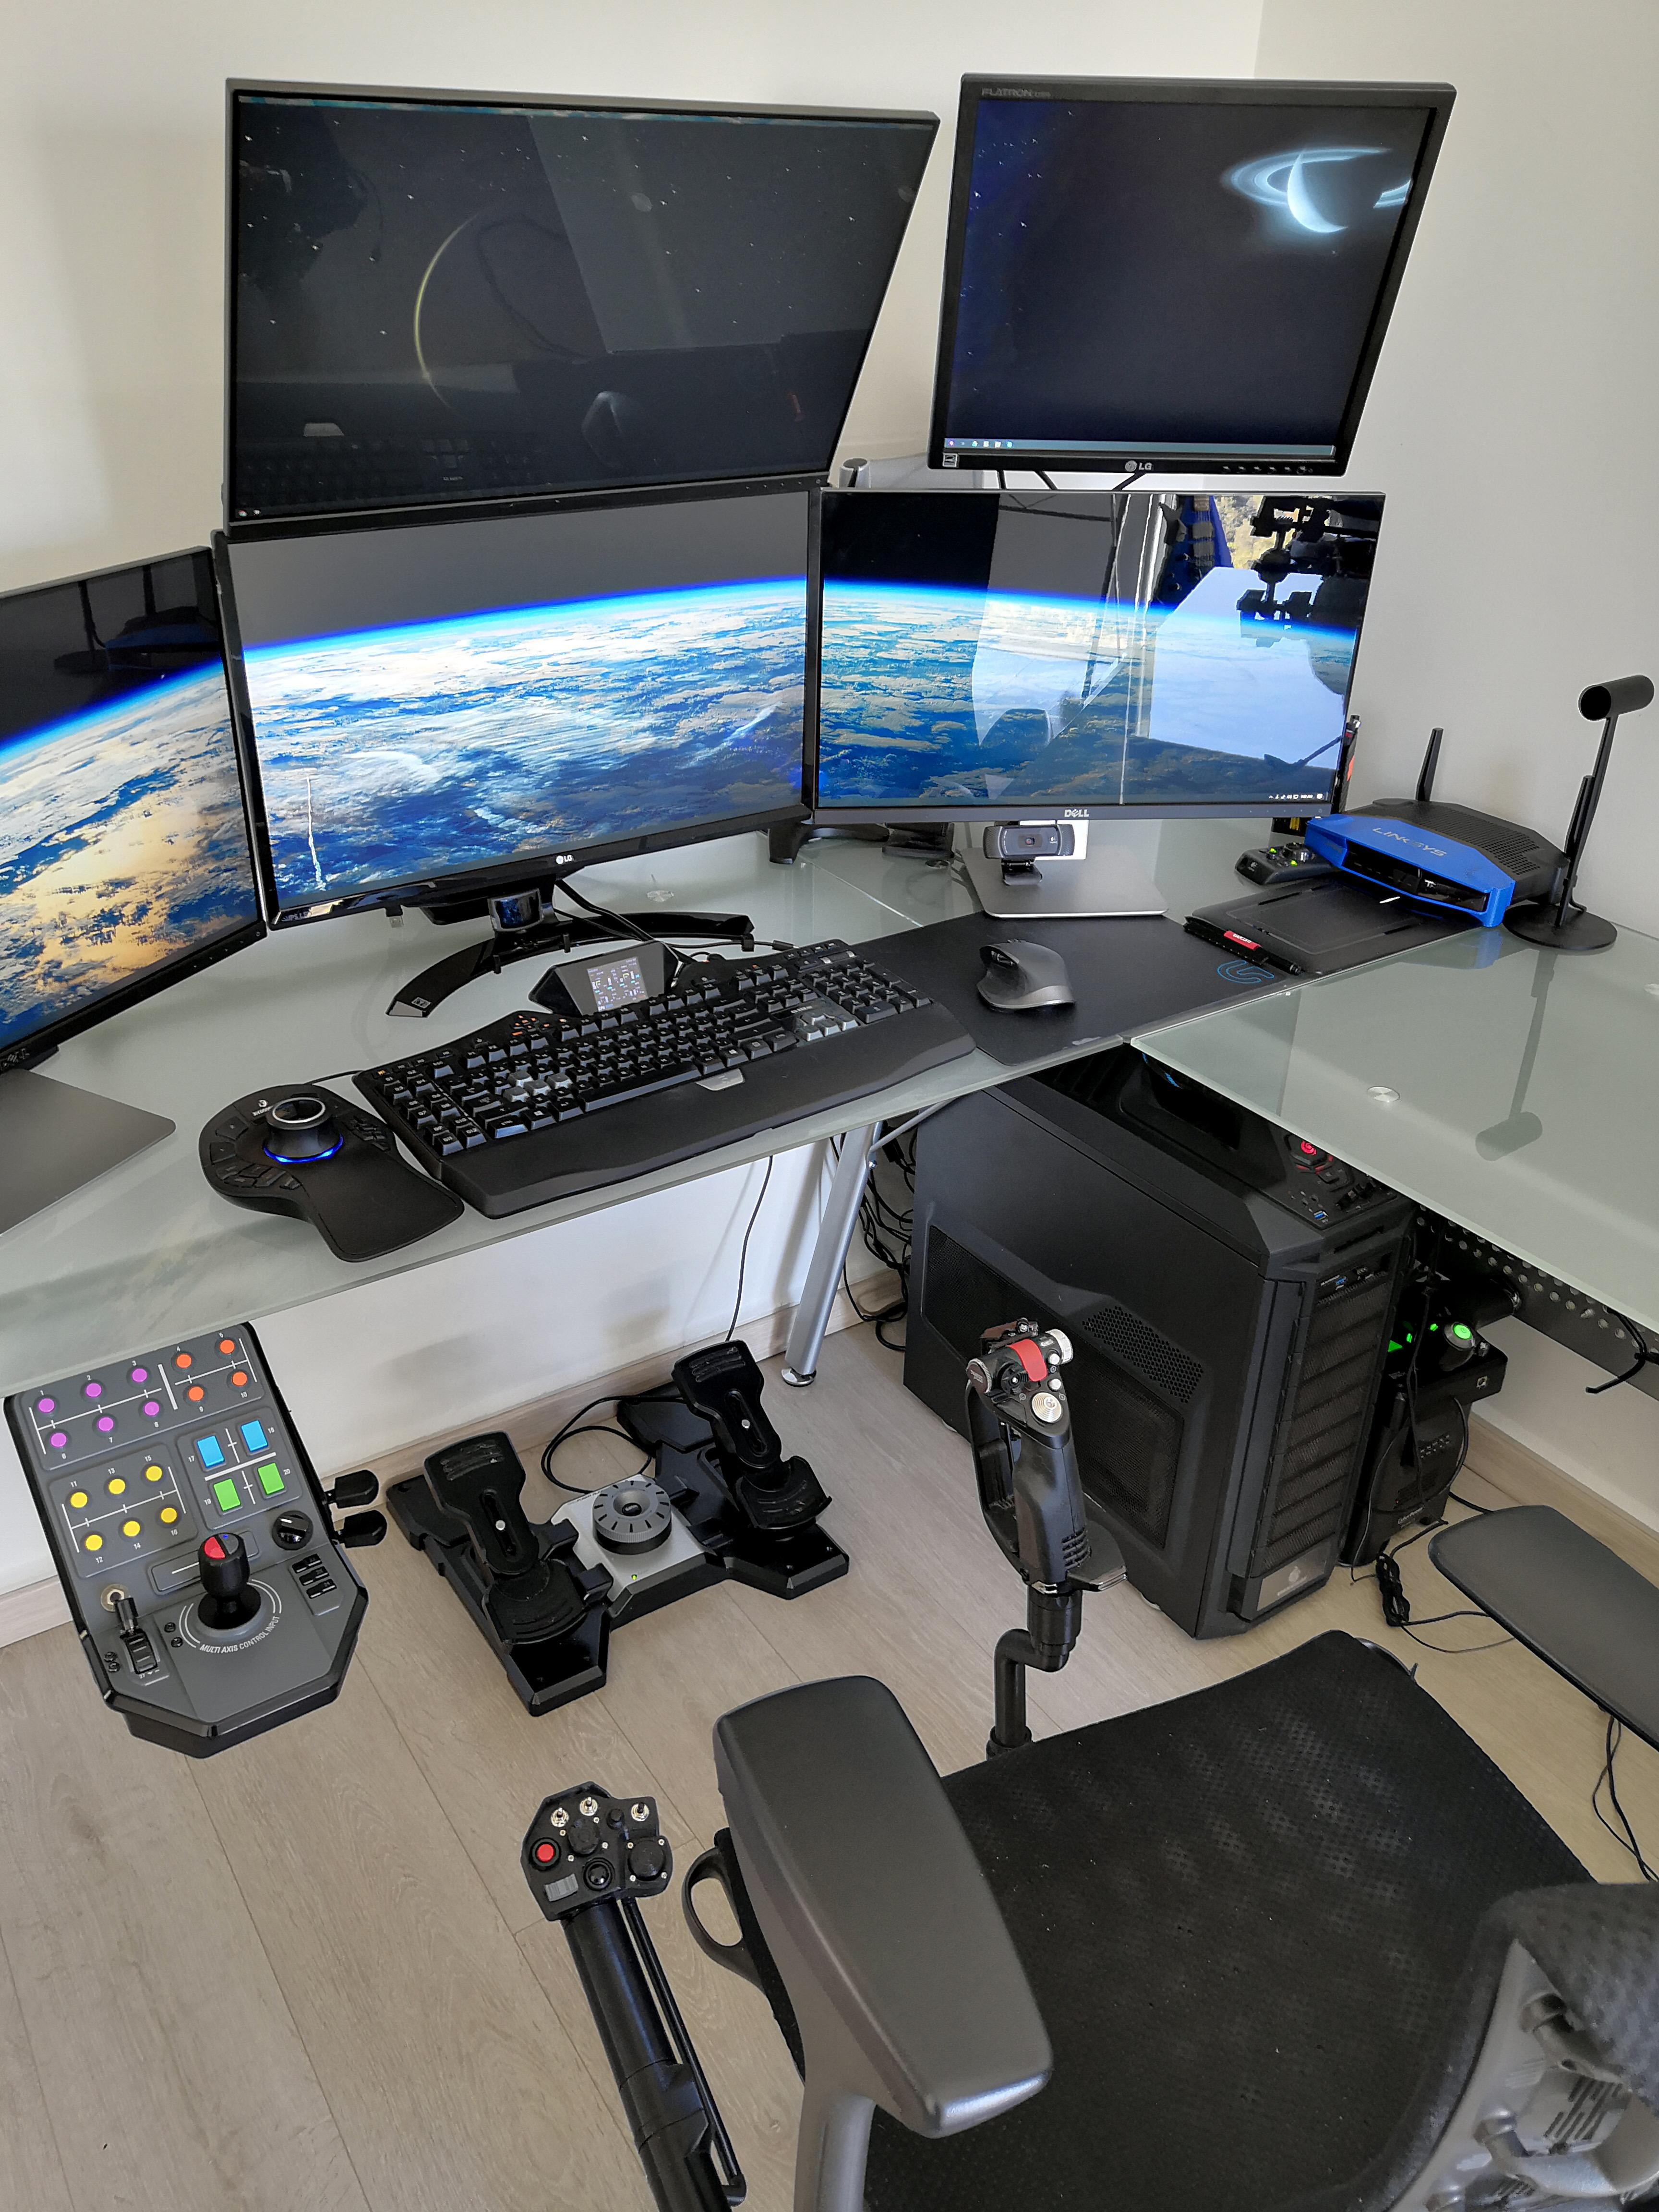Chair (Generic): (701, 1595, 1659, 2212)
Desk (Generic): (0, 827, 1643, 1343)
Desktop (Generic): (924, 1087, 1417, 1627)
External Webcam: (972, 824, 1091, 890), (472, 888, 592, 925)
Gaming Controller: (389, 1359, 920, 1730), (5, 1329, 390, 1731), (540, 1766, 767, 2212), (892, 1352, 1162, 1656), (193, 1078, 446, 1261)
Keyboard (Gaming): (349, 949, 979, 1169)
Monitor (Landscape): (244, 85, 913, 502), (225, 484, 838, 880), (934, 70, 1445, 486), (810, 495, 1342, 801), (0, 550, 242, 1085)
Mouse (Ergonomic): (945, 925, 1103, 1029)
Mousepad (Generic): (875, 892, 1281, 1071)
Router: (1298, 779, 1572, 923)
